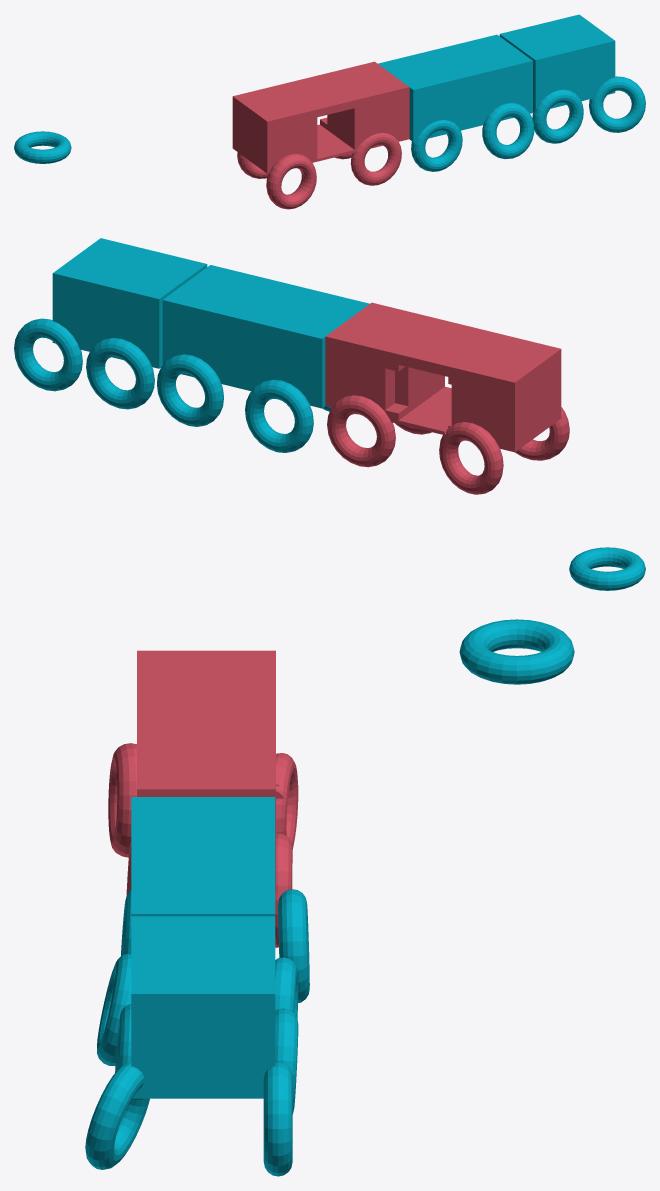
Rendered from Sizzling Wluff (1).glb.
The picture shows the model from 3 angles, top to bottom: view 1: azimuth 30°, elevation 25°; view 2: azimuth 150°, elevation 25°; view 3: azimuth 270°, elevation 25°; orthographic projection. The views are drawn at different scales.
Visible parts, largest first — view 1: Mesh_Mesh_head_geo.001_lambert2SG.001; view 2: Mesh_Mesh_head_geo.001_lambert2SG.001; view 3: Mesh_Mesh_head_geo.001_lambert2SG.001.
Part boxes in pixels (x1=…): Mesh_Mesh_head_geo.001_lambert2SG.001: x1=14, y1=14, x2=645, y2=209; Mesh_Mesh_head_geo.001_lambert2SG.001: x1=14, y1=238, x2=645, y2=590; Mesh_Mesh_head_geo.001_lambert2SG.001: x1=85, y1=619, x2=574, y2=1176.
Size of the model in its own units: 212 by 34.5 by 85.
